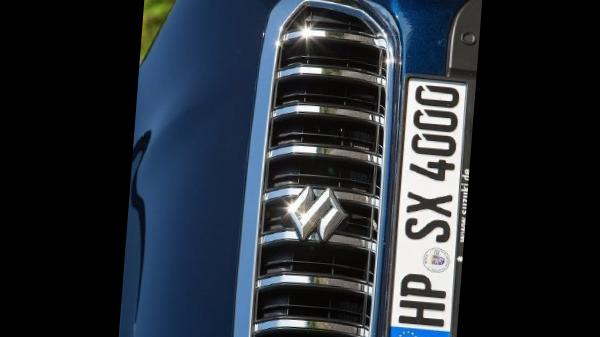plate: (375, 60, 473, 337)
